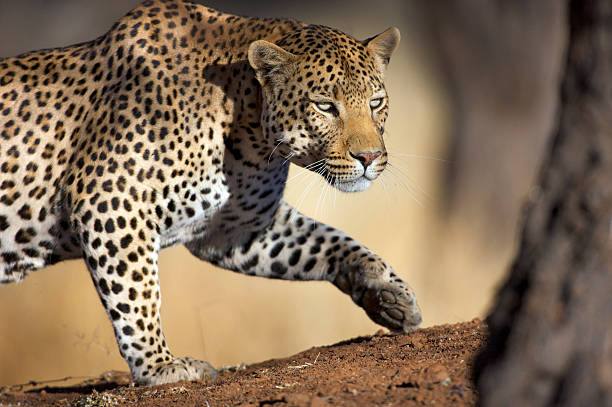cheetah: (248, 12, 405, 204)
